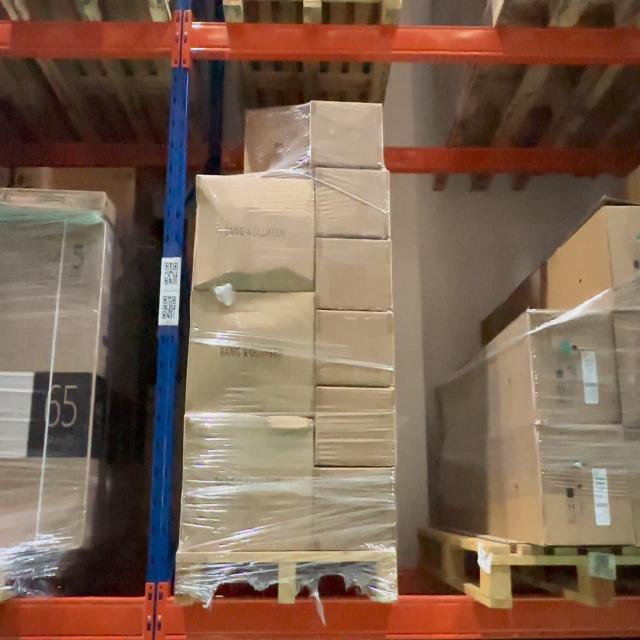box: (178, 413, 316, 553), (183, 287, 319, 416), (189, 175, 317, 292), (539, 424, 634, 549), (530, 309, 617, 425), (313, 467, 398, 552), (313, 387, 397, 468), (314, 310, 396, 390), (316, 238, 393, 312), (315, 166, 392, 239), (310, 100, 386, 170), (244, 104, 308, 178)
